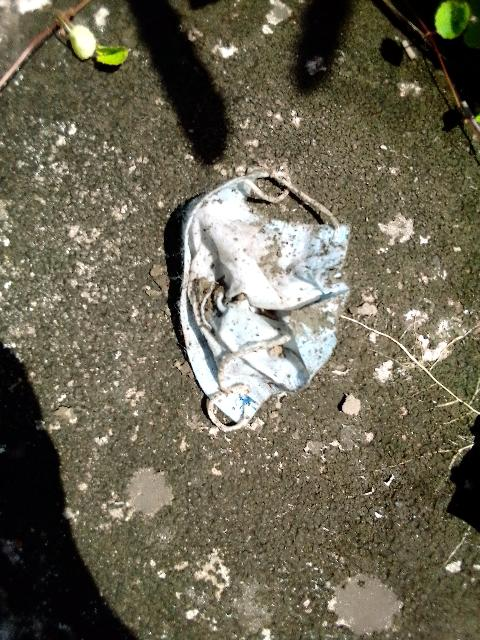mask: (144, 154, 350, 426)
